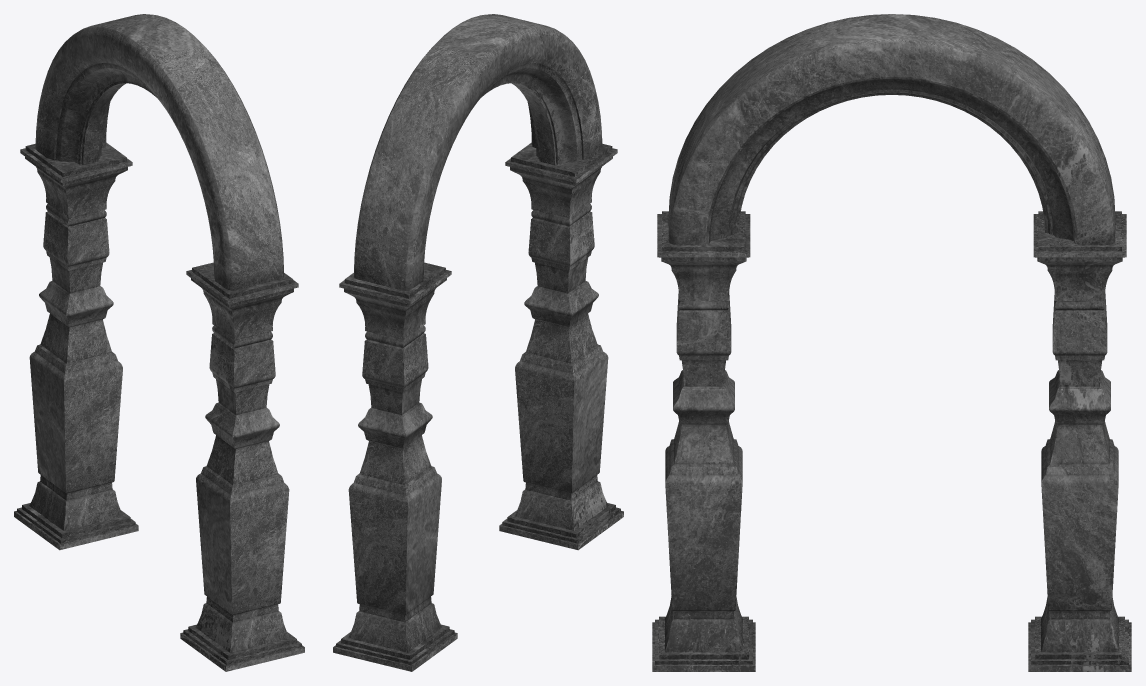
The model's file is arc.obj.
3 views of the same model, side by side, from view 1: azimuth 30°, elevation 25°; view 2: azimuth 150°, elevation 25°; view 3: azimuth 270°, elevation 25° (orthographic). The views are drawn at different scales.
Parts seen in each view (by area): view 1: Archway; view 2: Archway; view 3: Archway.
Part boxes in pixels (x1=…): Archway: x1=14, y1=14, x2=304, y2=671; Archway: x1=333, y1=14, x2=623, y2=671; Archway: x1=652, y1=14, x2=1131, y2=671.
Bounding box in the file's own units: 0.5004 × 3.33 × 2.32.
